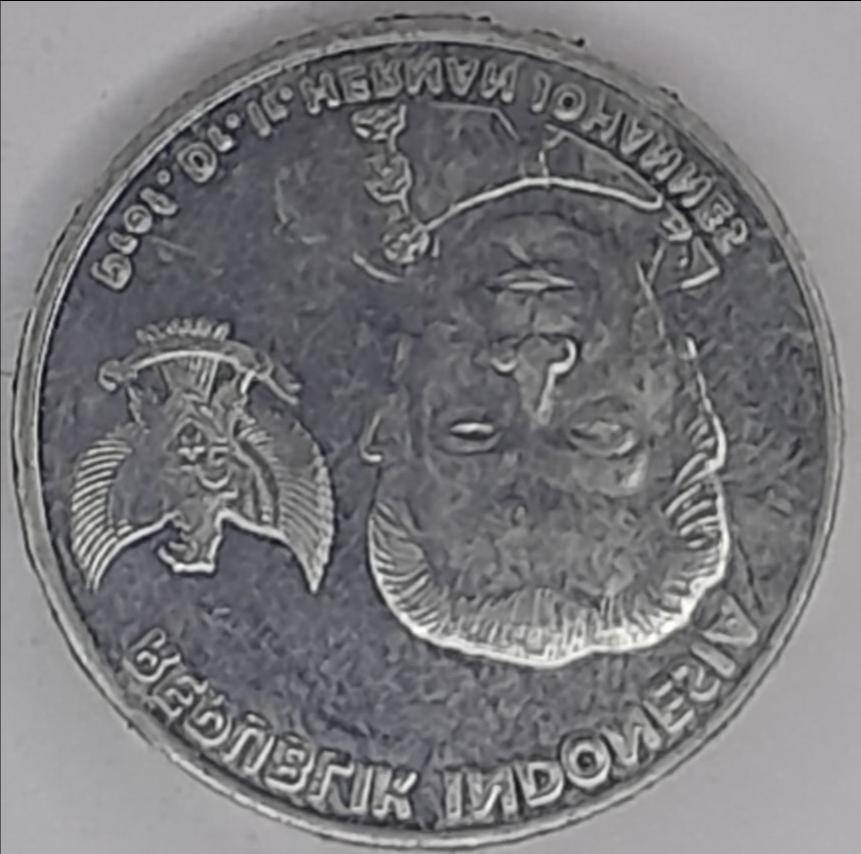coin_100_e2016: (4, 2, 850, 852)
